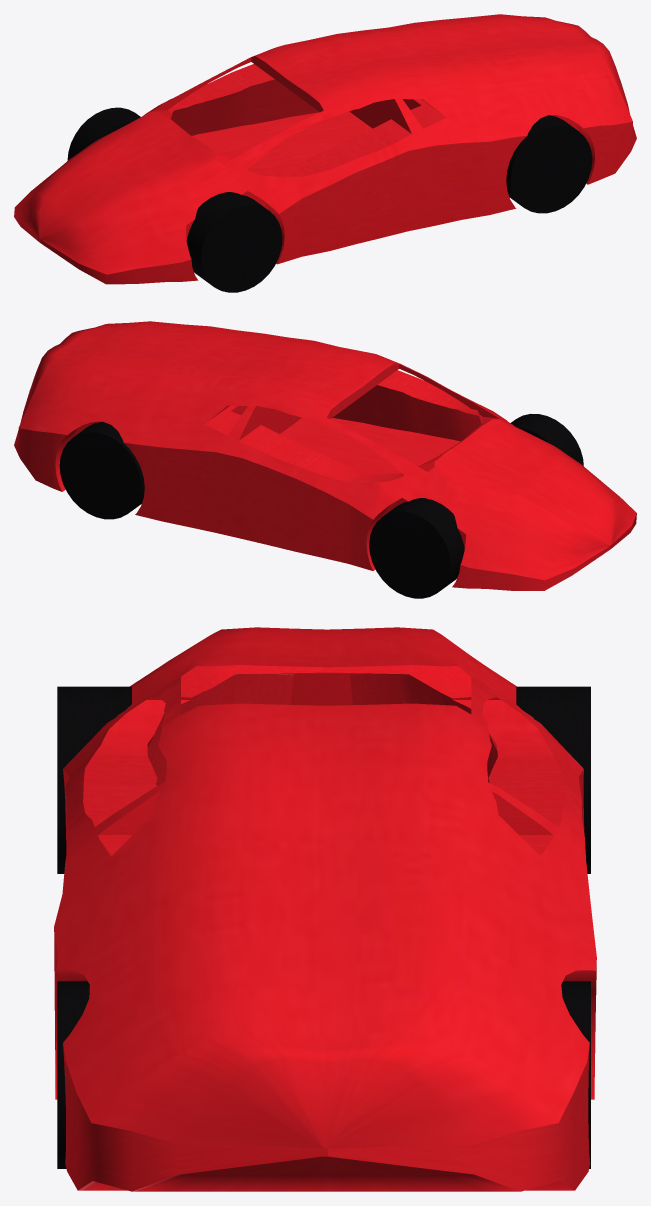
Rendered from lambor.fbx.
The picture shows the model from 3 angles, top to bottom: view 1: azimuth 30°, elevation 25°; view 2: azimuth 150°, elevation 25°; view 3: azimuth 270°, elevation 25°; orthographic projection. The views are drawn at different scales.
Parts seen in each view (by area): view 1: kropp, forhjul1, bakhjul, forhjul; view 2: kropp, forhjul, bakhjul1, forhjul1; view 3: kropp, forhjul1, forhjul, bakhjul, bakhjul1.
Boxes of the visible parts, bbox=[...] form: kropp: bbox=[14, 14, 636, 284]; forhjul1: bbox=[186, 192, 282, 292]; bakhjul: bbox=[506, 115, 592, 213]; forhjul: bbox=[67, 107, 140, 160]; kropp: bbox=[14, 321, 636, 590]; forhjul: bbox=[369, 498, 464, 598]; bakhjul1: bbox=[59, 421, 144, 519]; forhjul1: bbox=[510, 414, 583, 466]; kropp: bbox=[54, 627, 596, 1191]; forhjul1: bbox=[57, 686, 131, 873]; forhjul: bbox=[516, 686, 590, 873]; bakhjul: bbox=[57, 981, 89, 1168]; bakhjul1: bbox=[561, 981, 590, 1168].
Size of the model in its own units: 120 by 28.85 by 50.56.
Materials: 2 (2 with a texture image).
